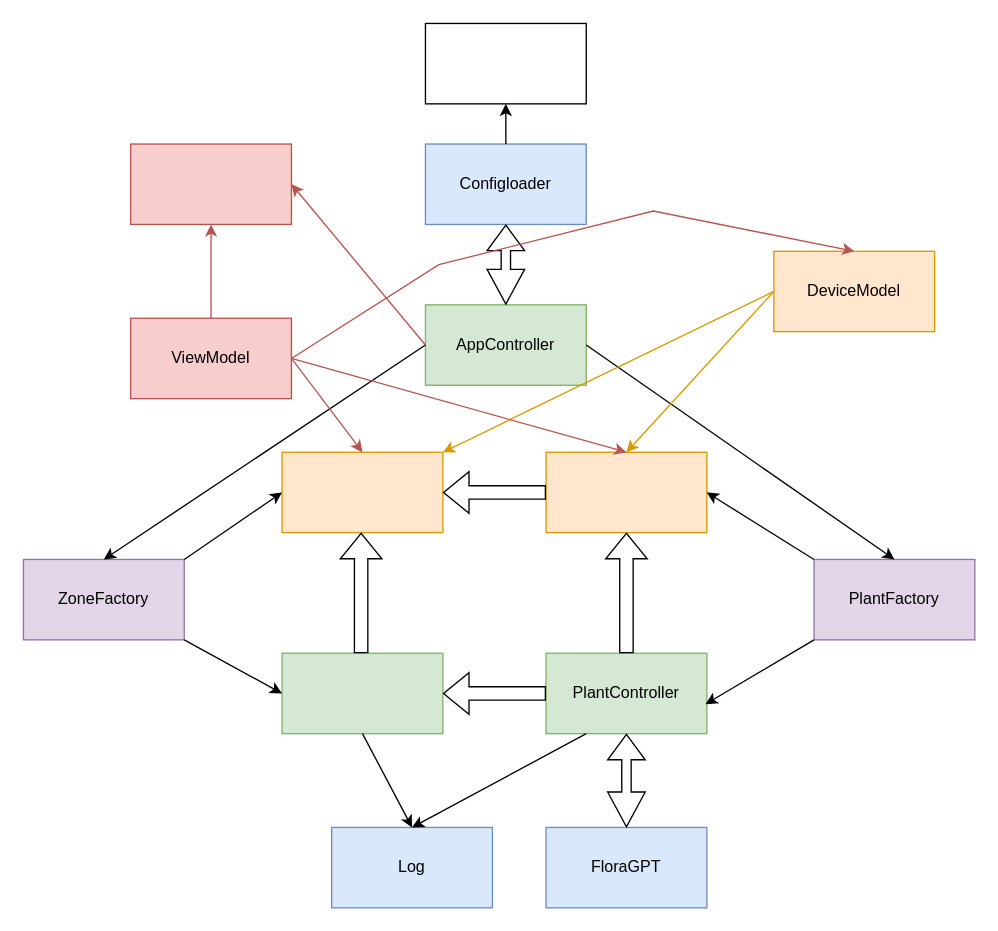
The diagram is 998 pixels wide and 931 high, and some of its shapes have lost their labels. Each missing label, with the box of its shape:
Config.json: (424, 22, 586, 104)
GUI: (129, 143, 291, 224)
PlantModel: (545, 451, 707, 533)
ZoneController: (281, 652, 443, 734)
ZoneModel: (281, 451, 443, 533)
